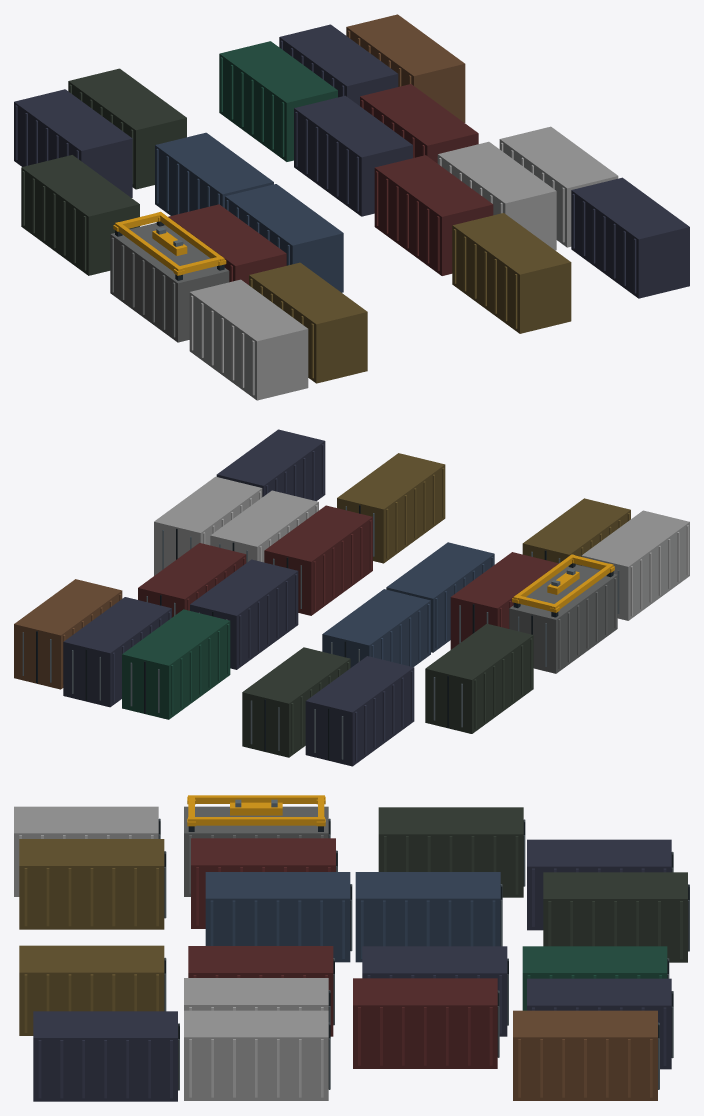
Rendered from containers-n-s-06.glb.
3 renders of one model, top to bottom at view 1: azimuth 30°, elevation 25°; view 2: azimuth 150°, elevation 25°; view 3: azimuth 270°, elevation 25°, orthographic. The views are drawn at different scales.
Parts seen in each view (by area): view 1: containers-n-s-06; view 2: containers-n-s-06; view 3: containers-n-s-06.
Boxes of the visible parts, x1=… form: containers-n-s-06: x1=14, y1=14, x2=689, y2=400; containers-n-s-06: x1=14, y1=429, x2=689, y2=766; containers-n-s-06: x1=14, y1=795, x2=689, y2=1101.
Size of the model in its own units: 50.25 by 8.25 by 61.63.
